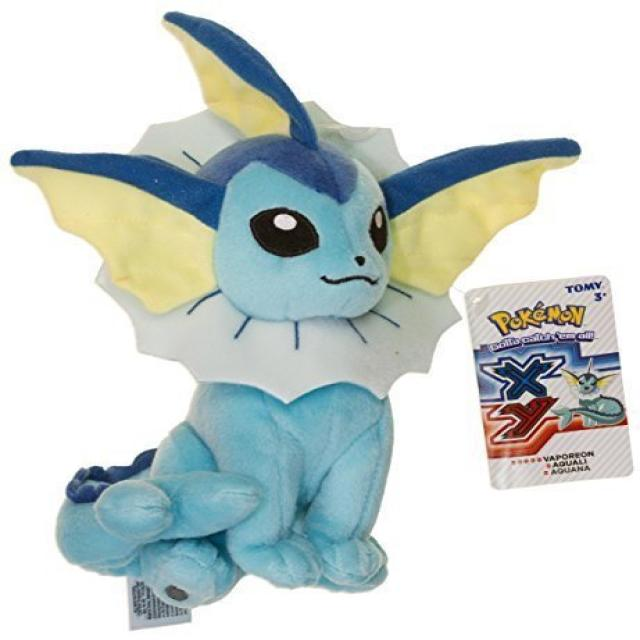Vaporeon: (62, 19, 475, 592)
